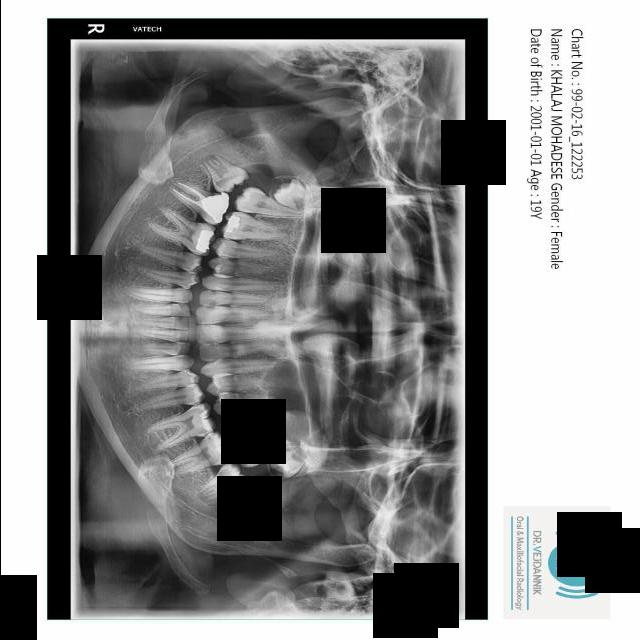74: (170, 179, 210, 210)
NucleOSS Implant: (198, 187, 234, 223), (224, 214, 242, 237), (195, 229, 212, 253)
Sterngold Implant: (195, 426, 210, 441), (205, 298, 220, 307), (246, 452, 257, 463), (203, 337, 217, 345), (242, 430, 252, 438), (225, 410, 236, 417), (205, 434, 213, 442), (195, 408, 203, 415), (208, 291, 218, 296), (207, 343, 217, 348), (205, 306, 217, 310), (191, 400, 199, 406), (196, 417, 202, 422)
